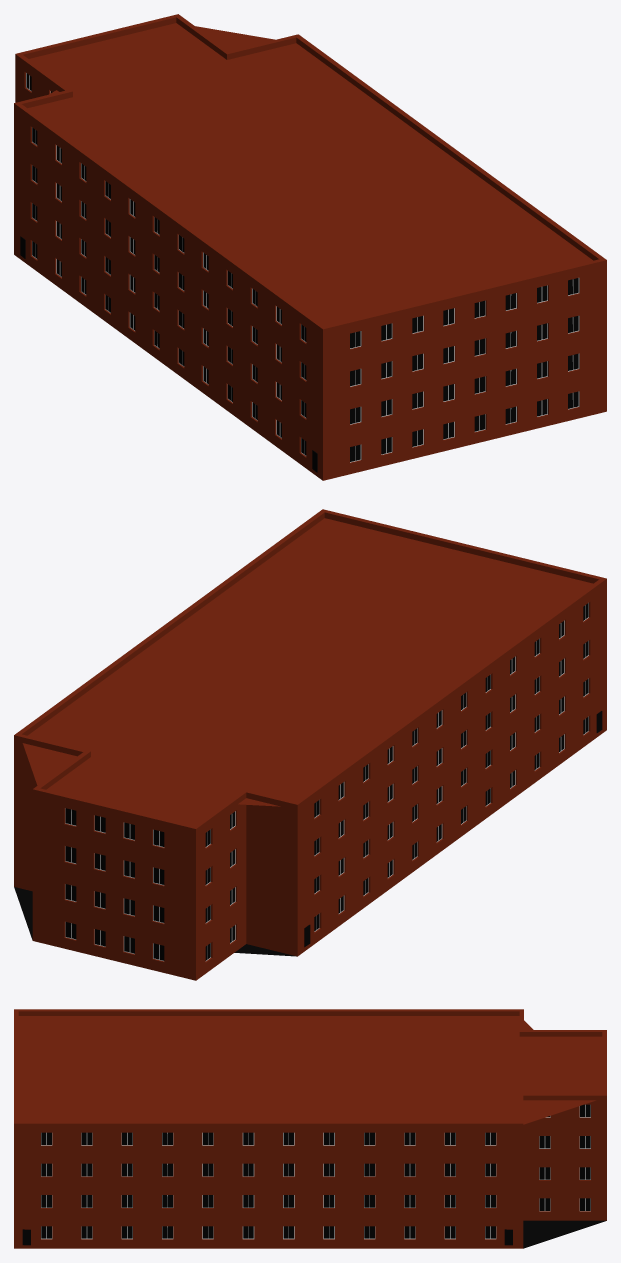
Rendered from Building_10_fbx2014.FBX.
3 renders of one model, top to bottom at view 1: azimuth 30°, elevation 25°; view 2: azimuth 150°, elevation 25°; view 3: azimuth 270°, elevation 25°, orthographic. The views are drawn at different scales.
Visible parts, largest first — view 1: wall; view 2: wall; view 3: wall.
Part boxes in pixels (bbox=[...]): wall: bbox=[14, 14, 606, 480]; wall: bbox=[14, 509, 606, 980]; wall: bbox=[14, 1009, 606, 1248].
Size of what is drawn, in the model's own units: 3553 by 7734 by 1800.
